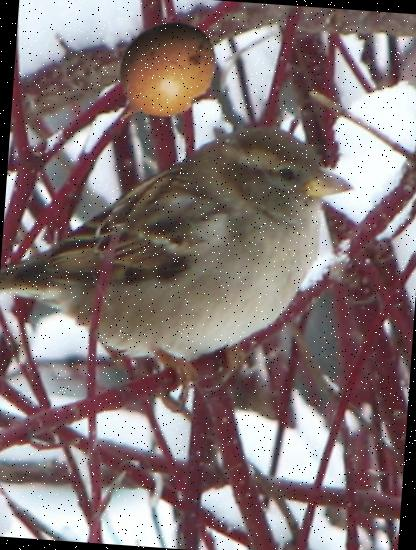Granadilla: (97, 11, 226, 141)
